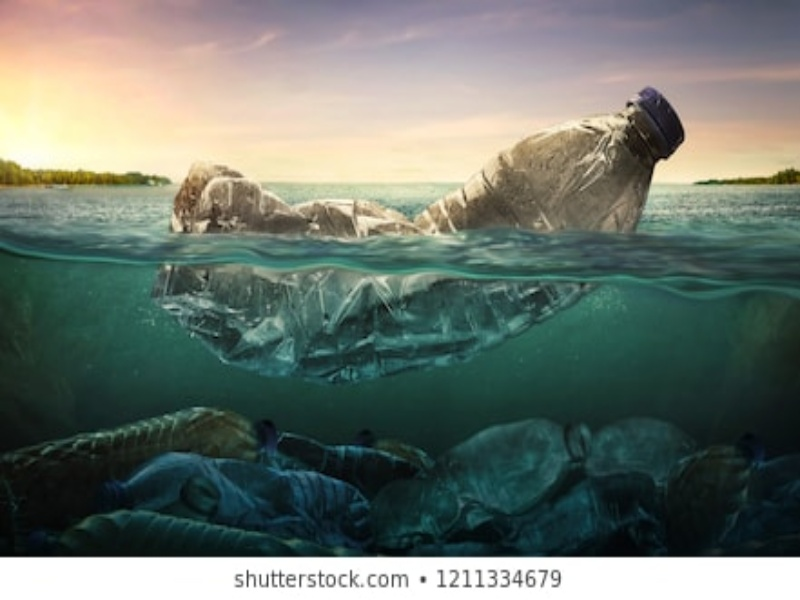bottle-cap: (662, 449, 753, 533), (630, 81, 695, 155), (738, 432, 773, 459), (257, 413, 281, 451)
plastic-bottle: (151, 83, 691, 385), (1, 408, 280, 513), (104, 451, 390, 527), (423, 416, 600, 519)
